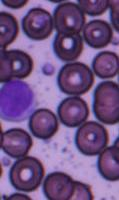L: (1, 78, 38, 122)
